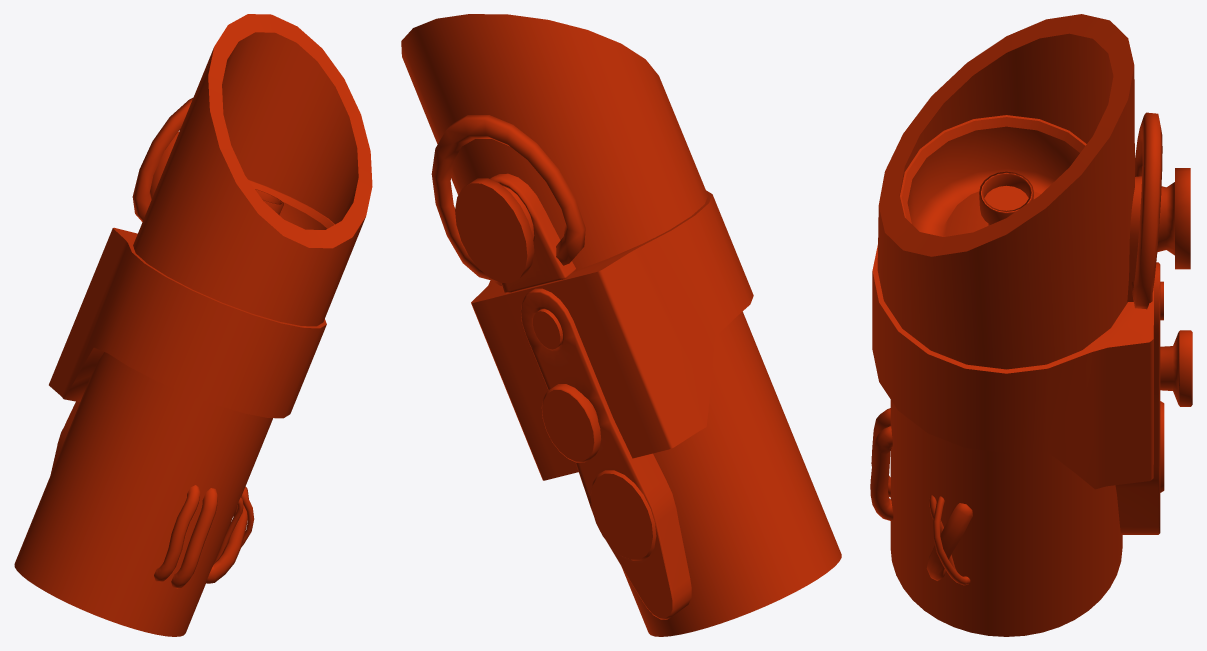
Rendered from Emitter_Vader.obj.
3 views of the same model, side by side, from view 1: azimuth 30°, elevation 25°; view 2: azimuth 150°, elevation 25°; view 3: azimuth 270°, elevation 25° (orthographic). The views are drawn at different scales.
Visible parts, largest first — view 1: Emitter_Vader Vader_GRP; view 2: Emitter_Vader Vader_GRP; view 3: Emitter_Vader Vader_GRP.
Part boxes in pixels (x1,y1,x2,y2): Emitter_Vader Vader_GRP: (14, 14, 372, 636); Emitter_Vader Vader_GRP: (401, 14, 841, 636); Emitter_Vader Vader_GRP: (870, 14, 1192, 636).
Size of the model in its own units: 4.68 by 6.9 by 2.98.
